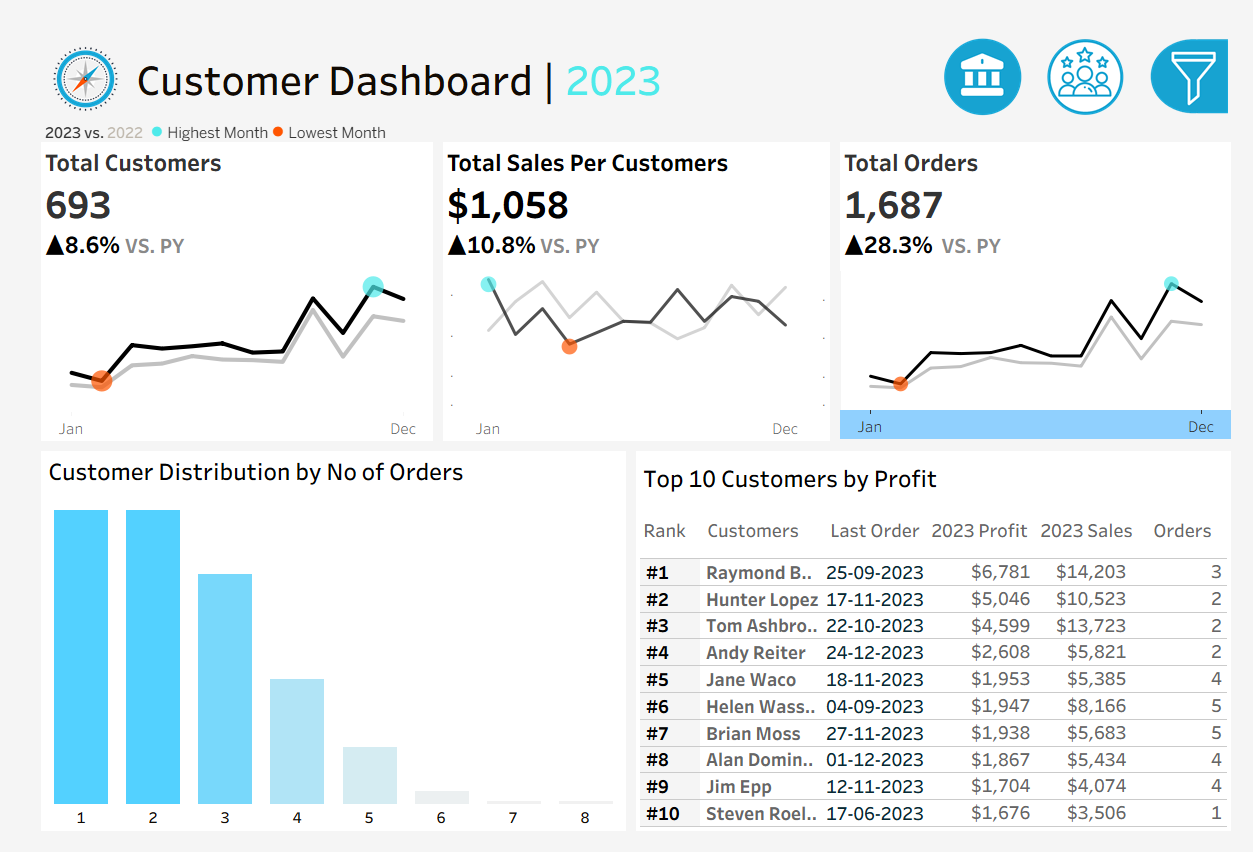

The page's visual inventory and layout, read from the dashboard file:
{"tool":"tableau","page":{"name":"Customers Dashboard","canvas":[1200,800],"ordinal":0},"visuals":[{"type":"text","box":[902,0,292,97]},{"type":"image","param":"Image/Icon - Logo.png","box":[5,5,88,76]},{"type":"text","box":[93,5,850,76]},{"type":"worksheet","title":"Legend KPI","mark":"Automatic","box":[5,81,1190,25]},{"type":"text","box":[902,97,292,40]},{"type":"worksheet","title":"KPI Customers","mark":"Line","rows":["Min/Max Sales (copy)_1499473341341698"],"cols":["Order Date"],"box":[5,106,397,309]},{"type":"worksheet","title":"KPI Sales Per Customers","mark":"Automatic","rows":["Min/Max Sales (copy)_1499473373155342"],"cols":["Order Date"],"box":[402,106,397,309]},{"type":"worksheet","title":"KPI Orders","mark":"Automatic","rows":["Min/Max Customers (copy)_1499473385848856"],"cols":["Order Date"],"box":[799,106,396,309]},{"type":"parameter","param":"[Parameters].[Parameter 0945318771236869]","box":[902,137,292,56]},{"type":"text","box":[902,193,292,74]},{"type":"text","box":[902,267,292,33]},{"type":"filter","title":"KPI Customers","param":"[federated.07tv24w0hx6gy317v1wc40eklyu1].[none:Category:nk]","box":[902,300,292,61]},{"type":"filter","title":"KPI Customers","param":"[federated.07tv24w0hx6gy317v1wc40eklyu1].[none:Sub-Category:nk]","box":[902,361,292,61]},{"type":"text","box":[5,415,585,40]},{"type":"text","box":[600,415,595,54]},{"type":"text","box":[902,422,292,72]},{"type":"worksheet","title":"Customer Distribution","mark":"Bar","rows":["CY Sales  (copy)_1499473340129280"],"cols":["Calculation_1499473395036188"],"box":[5,455,585,340]},{"type":"text","box":[600,469,64,49]},{"type":"text","box":[664,469,123,49]},{"type":"text","box":[787,469,101,49]},{"type":"text","box":[888,469,109,49]},{"type":"text","box":[997,469,113,49]},{"type":"text","box":[1110,469,85,49]},{"type":"text","box":[902,494,292,64]},{"type":"worksheet","title":"Top Customers","mark":"Automatic","rows":["Calculation_1499473402572832","Customer Name","Order Date"],"box":[600,518,595,277]},{"type":"filter","title":"KPI Customers","param":"[federated.07tv24w0hx6gy317v1wc40eklyu1].[none:Region:nk]","box":[902,558,292,61]},{"type":"filter","title":"KPI Customers","param":"[federated.07tv24w0hx6gy317v1wc40eklyu1].[none:State:nk]","box":[902,619,292,61]},{"type":"filter","title":"KPI Customers","param":"[federated.07tv24w0hx6gy317v1wc40eklyu1].[none:City:nk]","box":[902,680,292,61]}]}

Visuals, with their boxes in screenshot pixels (x1, y1, x2, y2), scaled from the page's 1200x800 canvas onto the 1253x852 screenshot:
text: detection(942, 0, 1247, 103)
image: detection(5, 5, 97, 86)
text: detection(97, 5, 985, 86)
"Legend KPI" worksheet: detection(5, 86, 1248, 113)
text: detection(942, 103, 1247, 146)
"KPI Customers" worksheet (Line marks): detection(5, 113, 420, 442)
"KPI Sales Per Customers" worksheet: detection(420, 113, 834, 442)
"KPI Orders" worksheet: detection(834, 113, 1248, 442)
parameter: detection(942, 146, 1247, 206)
text: detection(942, 206, 1247, 284)
text: detection(942, 284, 1247, 320)
"KPI Customers" filter: detection(942, 320, 1247, 384)
"KPI Customers" filter: detection(942, 384, 1247, 449)
text: detection(5, 442, 616, 485)
text: detection(626, 442, 1248, 499)
text: detection(942, 449, 1247, 526)
"Customer Distribution" worksheet (Bar marks): detection(5, 485, 616, 847)
text: detection(626, 499, 693, 552)
text: detection(693, 499, 822, 552)
text: detection(822, 499, 927, 552)
text: detection(927, 499, 1041, 552)
text: detection(1041, 499, 1159, 552)
text: detection(1159, 499, 1248, 552)
text: detection(942, 526, 1247, 594)
"Top Customers" worksheet: detection(626, 552, 1248, 847)
"KPI Customers" filter: detection(942, 594, 1247, 659)
"KPI Customers" filter: detection(942, 659, 1247, 724)
"KPI Customers" filter: detection(942, 724, 1247, 789)
